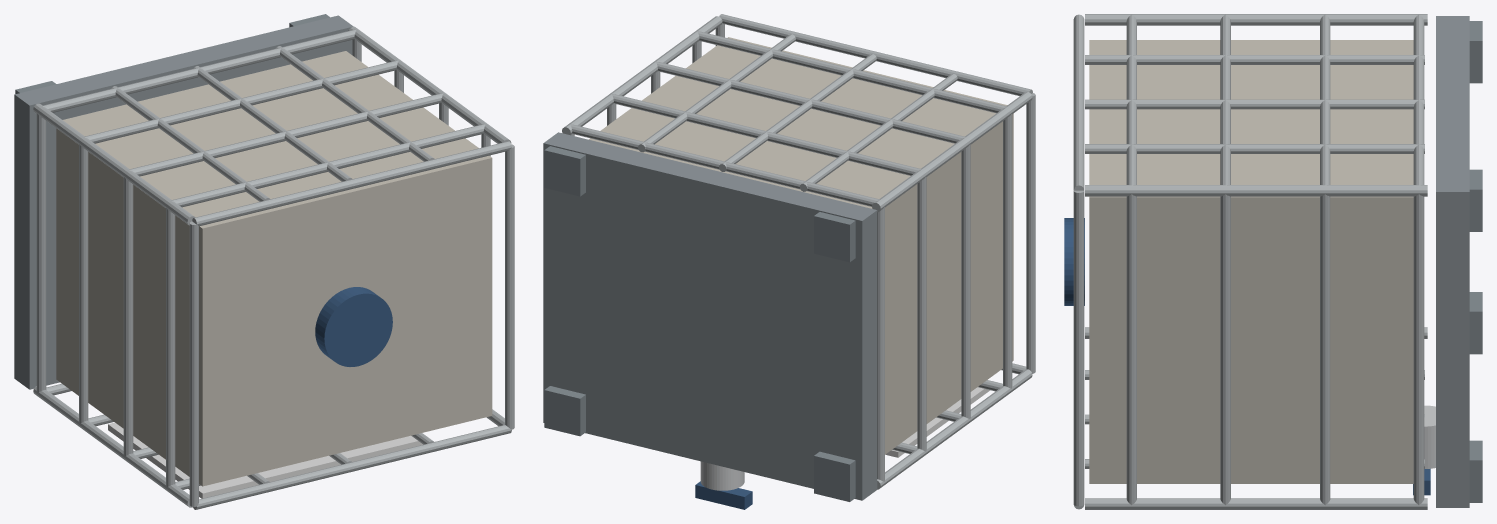
The model's file is ibc-1000l.glb.
3 views of the same model, side by side, from view 1: azimuth 30°, elevation 25°; view 2: azimuth 150°, elevation 25°; view 3: azimuth 270°, elevation 25° (orthographic). The views are drawn at different scales.
Visible parts, largest first — view 1: liquid-translucent-mockup, pallet-base, top-closure, horizontal-back-4, horizontal-front-4, white-label-panel, horizontal-back-0, horizontal-back-1, horizontal-back-2, horizontal-back-3, sidebar-left-2, sidebar-left-0 (+10 smaller); view 2: pallet-base, liquid-translucent-mockup, horizontal-back-4, horizontal-back-0, horizontal-back-2, horizontal-back-3, horizontal-back-1, sidebar-left-4, sidebar-left-3, sidebar-left-2, sidebar-left-1, sidebar-left-0 (+13 smaller); view 3: liquid-translucent-mockup, pallet-base, corner-cage-3, corner-cage-2, sidebar-right-4, corner-cage-1, sidebar-right-0, vertical-back-1, sidebar-right-1, sidebar-right-2, sidebar-right-3, vertical-back-2 (+12 smaller).
Boxes of the visible parts, left/top/right/bottom form: liquid-translucent-mockup: left=56, top=51, right=492, bottom=486; pallet-base: left=14, top=15, right=353, bottom=389; top-closure: left=315, top=287, right=392, bottom=366; horizontal-back-4: left=192, top=141, right=511, bottom=226; horizontal-front-4: left=193, top=425, right=511, bottom=509; white-label-panel: left=108, top=422, right=422, bottom=498; horizontal-back-0: left=42, top=29, right=356, bottom=112; horizontal-back-1: left=84, top=60, right=398, bottom=143; horizontal-back-2: left=129, top=93, right=443, bottom=176; horizontal-back-3: left=171, top=124, right=485, bottom=207; sidebar-left-2: left=123, top=177, right=133, bottom=456; sidebar-left-0: left=36, top=113, right=46, bottom=392; pallet-base: left=543, top=132, right=877, bottom=500; liquid-translucent-mockup: left=589, top=37, right=1013, bottom=454; horizontal-back-4: left=719, top=14, right=1032, bottom=96; horizontal-back-0: left=570, top=124, right=879, bottom=206; horizontal-back-2: left=656, top=61, right=965, bottom=143; horizontal-back-3: left=697, top=31, right=1006, bottom=113; horizontal-back-1: left=612, top=94, right=921, bottom=175; sidebar-left-4: left=1026, top=93, right=1035, bottom=373; sidebar-left-3: left=1003, top=114, right=1012, bottom=388; sidebar-left-2: left=961, top=144, right=970, bottom=418; sidebar-left-1: left=917, top=177, right=926, bottom=451; sidebar-left-0: left=877, top=207, right=884, bottom=481; liquid-translucent-mockup: left=1089, top=40, right=1413, bottom=483; pallet-base: left=1436, top=16, right=1469, bottom=507; corner-cage-3: left=1085, top=185, right=1427, bottom=196; corner-cage-2: left=1085, top=498, right=1427, bottom=509; sidebar-right-4: left=1073, top=190, right=1084, bottom=506; corner-cage-1: left=1085, top=14, right=1427, bottom=25; sidebar-right-0: left=1413, top=194, right=1424, bottom=504; vertical-back-1: left=1085, top=99, right=1424, bottom=109; sidebar-right-1: left=1320, top=194, right=1330, bottom=505; sidebar-right-2: left=1220, top=194, right=1230, bottom=505; sidebar-right-3: left=1126, top=194, right=1136, bottom=505; vertical-back-2: left=1085, top=144, right=1424, bottom=153.
Bounding box in the file's own units: 1.42 × 1.44 × 1.43.
